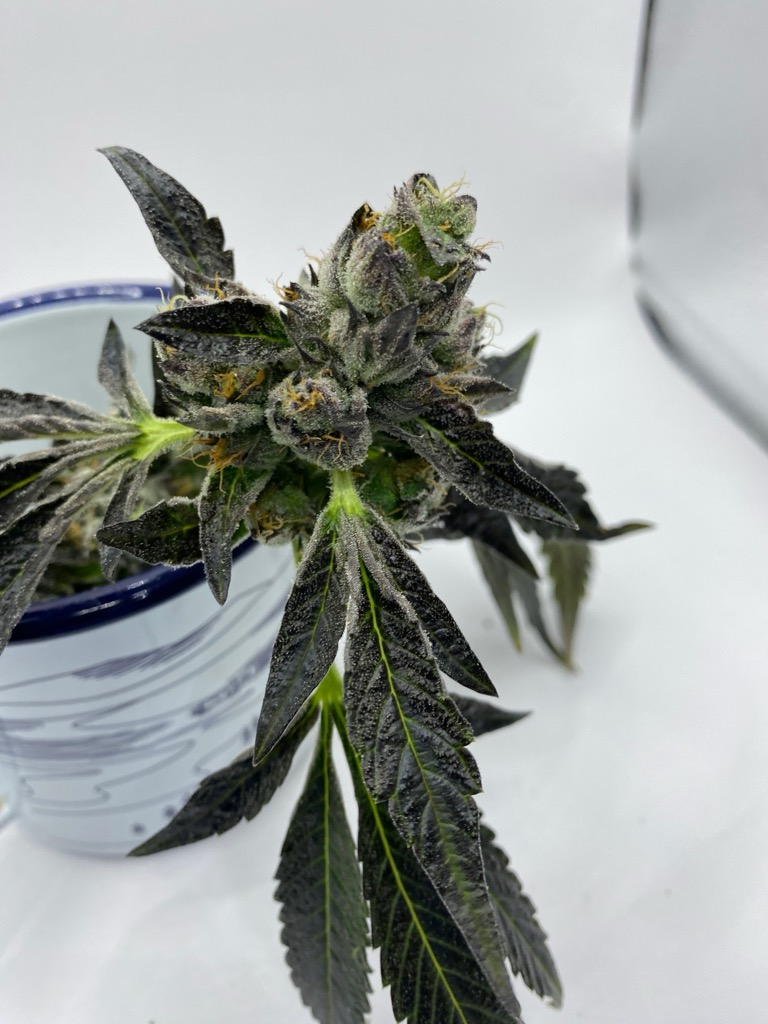Bud: (328, 181, 506, 370), (253, 364, 413, 470)
Leaf: (338, 533, 555, 1023), (245, 492, 364, 788), (78, 129, 266, 295), (89, 315, 144, 426)
